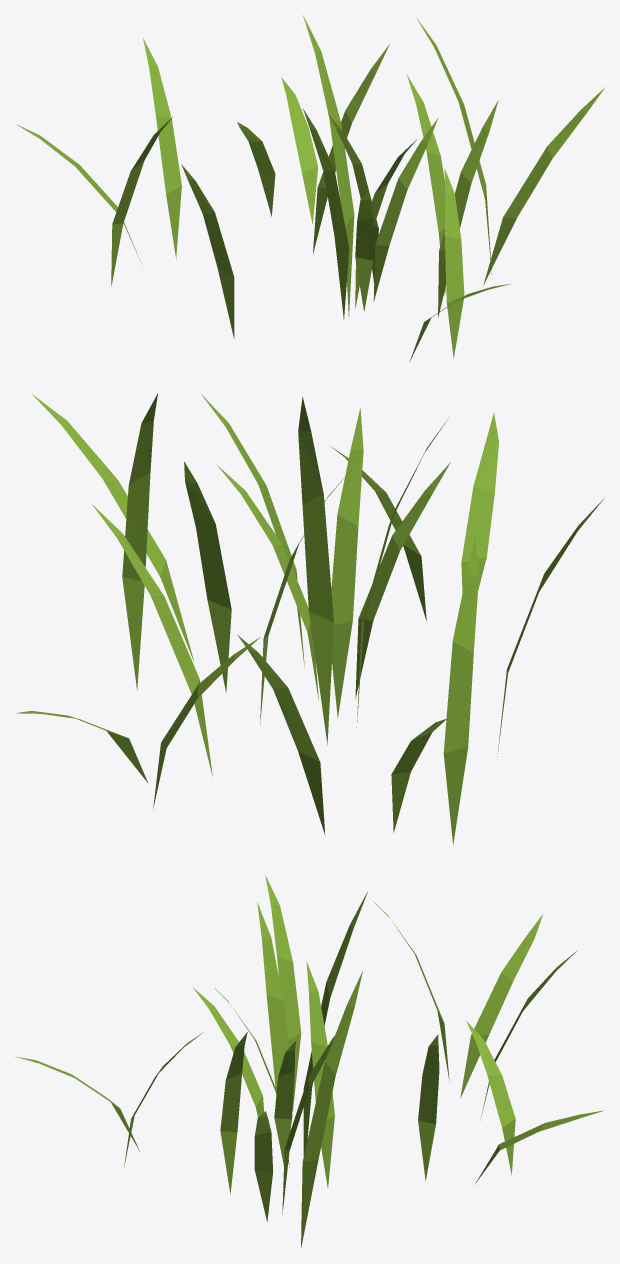
The model's file is grass-small-b.fbx.
The picture shows the model from 3 angles, top to bottom: view 1: azimuth 30°, elevation 25°; view 2: azimuth 150°, elevation 25°; view 3: azimuth 270°, elevation 25°; orthographic projection. The views are drawn at different scales.
Parts seen in each view (by area): view 1: grass-small-b; view 2: grass-small-b; view 3: grass-small-b.
Part boxes in pixels (x1,y1,x2,y2): grass-small-b: [16, 15, 605, 361]; grass-small-b: [15, 393, 604, 845]; grass-small-b: [15, 875, 604, 1248].
Bounding box in the file's own units: 0.6161 × 0.3701 × 0.6889.
